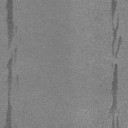red iron: (3, 48, 18, 128), (110, 64, 120, 128), (5, 0, 18, 48), (112, 0, 122, 58), (16, 74, 19, 85)
